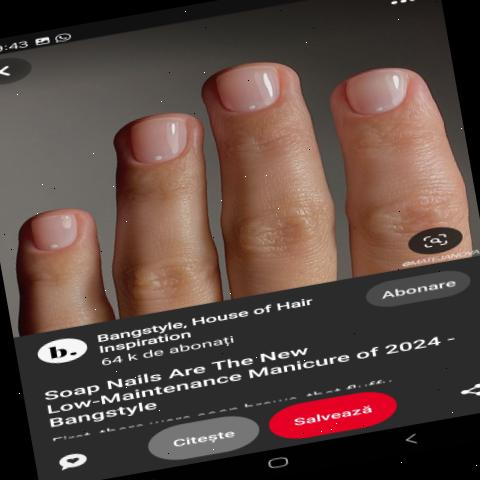hands: (0, 17, 480, 333)
